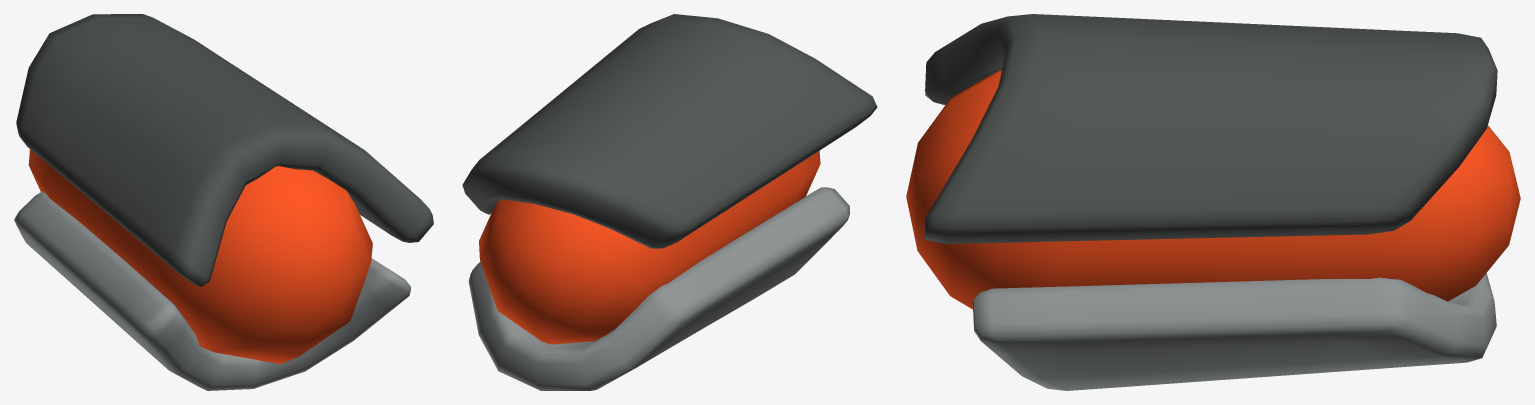
The model's file is xsens_LeftFourthMP.dae.
3 renders of one model, left to right at view 1: azimuth 30°, elevation 25°; view 2: azimuth 150°, elevation 25°; view 3: azimuth 270°, elevation 25°, orthographic. The views are drawn at different scales.
Parts seen in each view (by area): view 1: LeftFourthMP; view 2: LeftFourthMP; view 3: LeftFourthMP.
Part boxes in pixels (x1,y1,x2,y2): LeftFourthMP: (14, 14, 433, 390); LeftFourthMP: (462, 14, 877, 390); LeftFourthMP: (906, 14, 1520, 390).
Bounding box in the file's own units: 0.0185 × 0.0298 × 0.0182.
